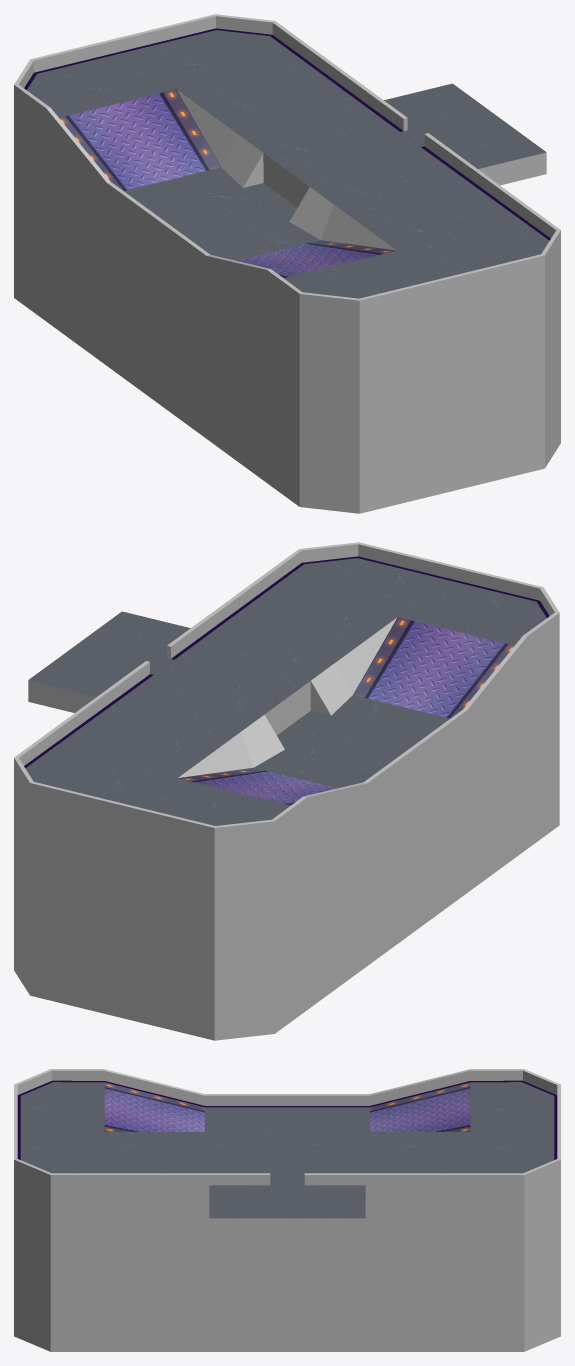
File: Duel_A1_Stage_UpDownSlope.fbx
3 views of the same model, one above another, from view 1: azimuth 30°, elevation 25°; view 2: azimuth 150°, elevation 25°; view 3: azimuth 270°, elevation 25° (orthographic). The views are drawn at different scales.
Parts seen in each view (by area): view 1: Cube, Cube.003, Cube.001, Cube.002; view 2: Cube, Cube.003, Cube.001, Cube.002; view 3: Cube, Cube.003, Cube.001, Cube.002.
Part boxes in pixels (x1,y1,x2,y2): Cube: [14, 30, 560, 513]; Cube.003: [14, 14, 560, 312]; Cube.001: [384, 83, 546, 185]; Cube.002: [24, 28, 550, 240]; Cube: [14, 558, 559, 1040]; Cube.003: [14, 542, 559, 840]; Cube.001: [28, 611, 190, 712]; Cube.002: [24, 556, 549, 767]; Cube: [14, 1082, 560, 1351]; Cube.003: [14, 1069, 560, 1185]; Cube.001: [209, 1185, 365, 1236]; Cube.002: [17, 1080, 557, 1159].
Bounding box in the file's own units: 4271 × 2499 × 7004.
